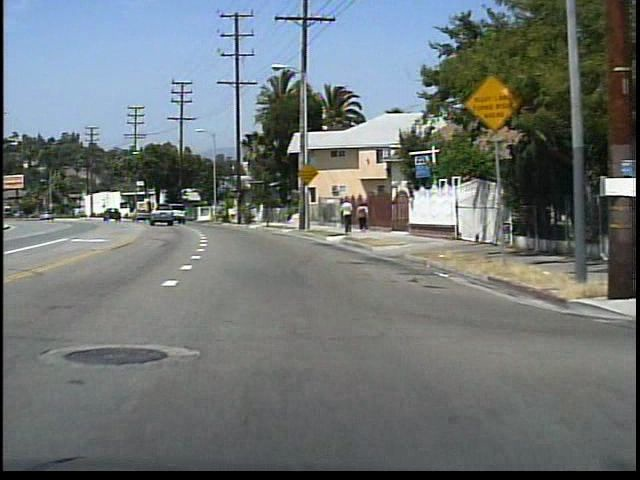person: (338, 196, 355, 237), (354, 201, 370, 233)
